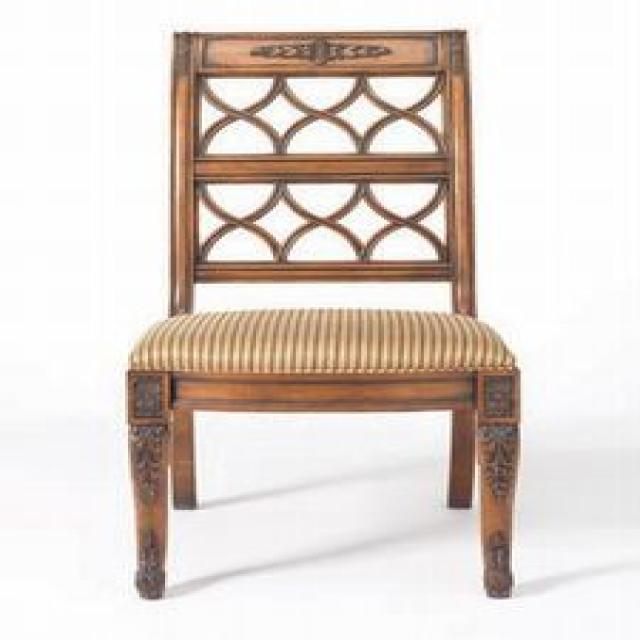chair: (122, 28, 520, 599)
